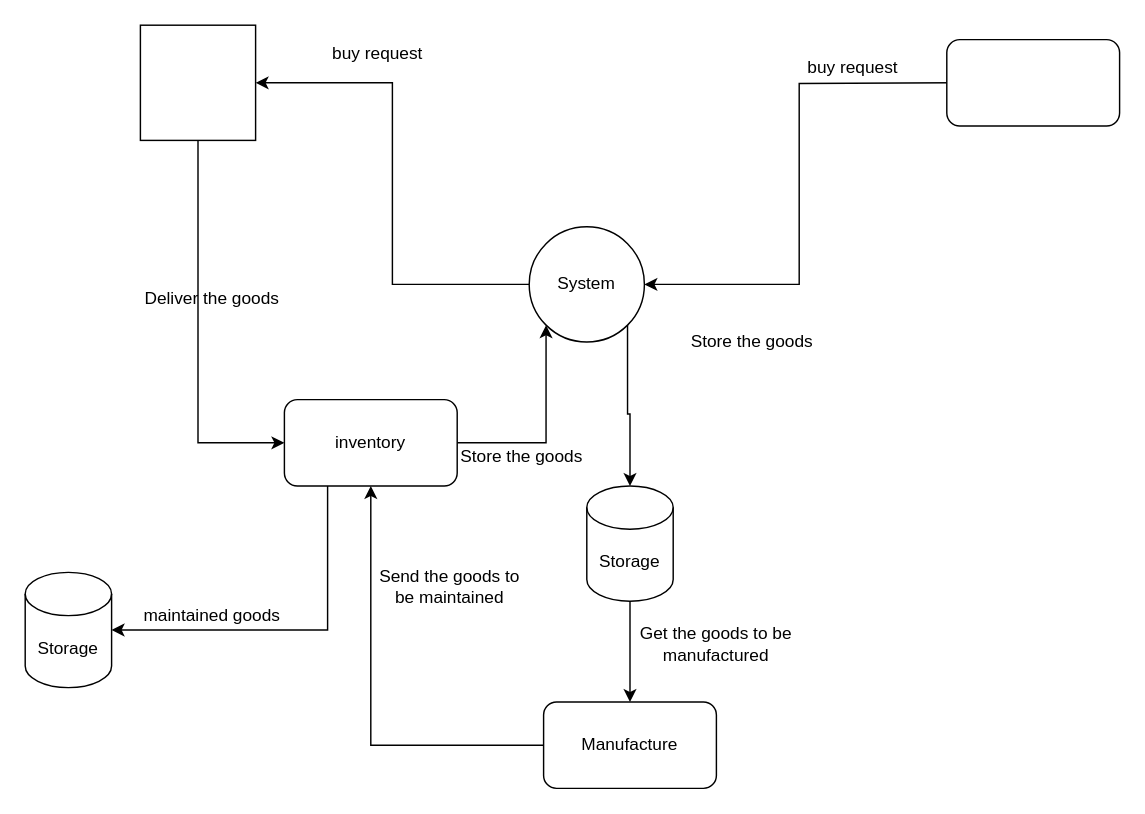
Image size: 1145x814. Some labels were removed from this diagram. The box of each missing label's shape, as (x1, y1, x2, y2) in pixels:
Purchasing: (945, 38, 1120, 126)
Vendor: (139, 24, 256, 140)
